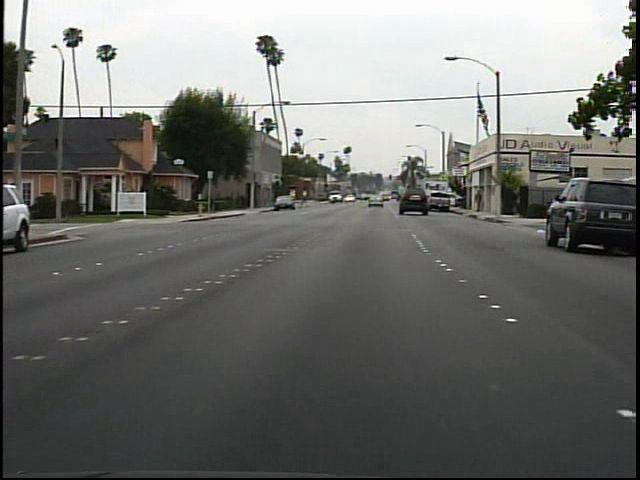person: (469, 187, 486, 217)
